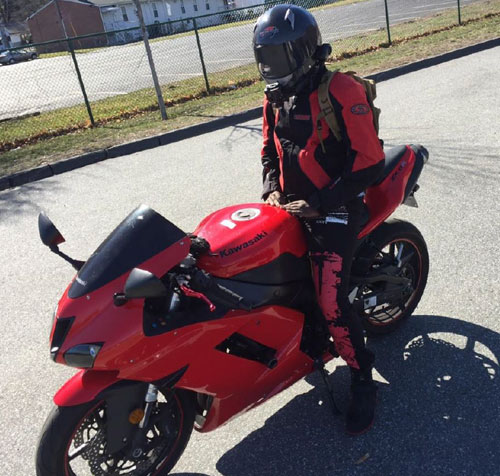helmet: (206, 1, 430, 378)
